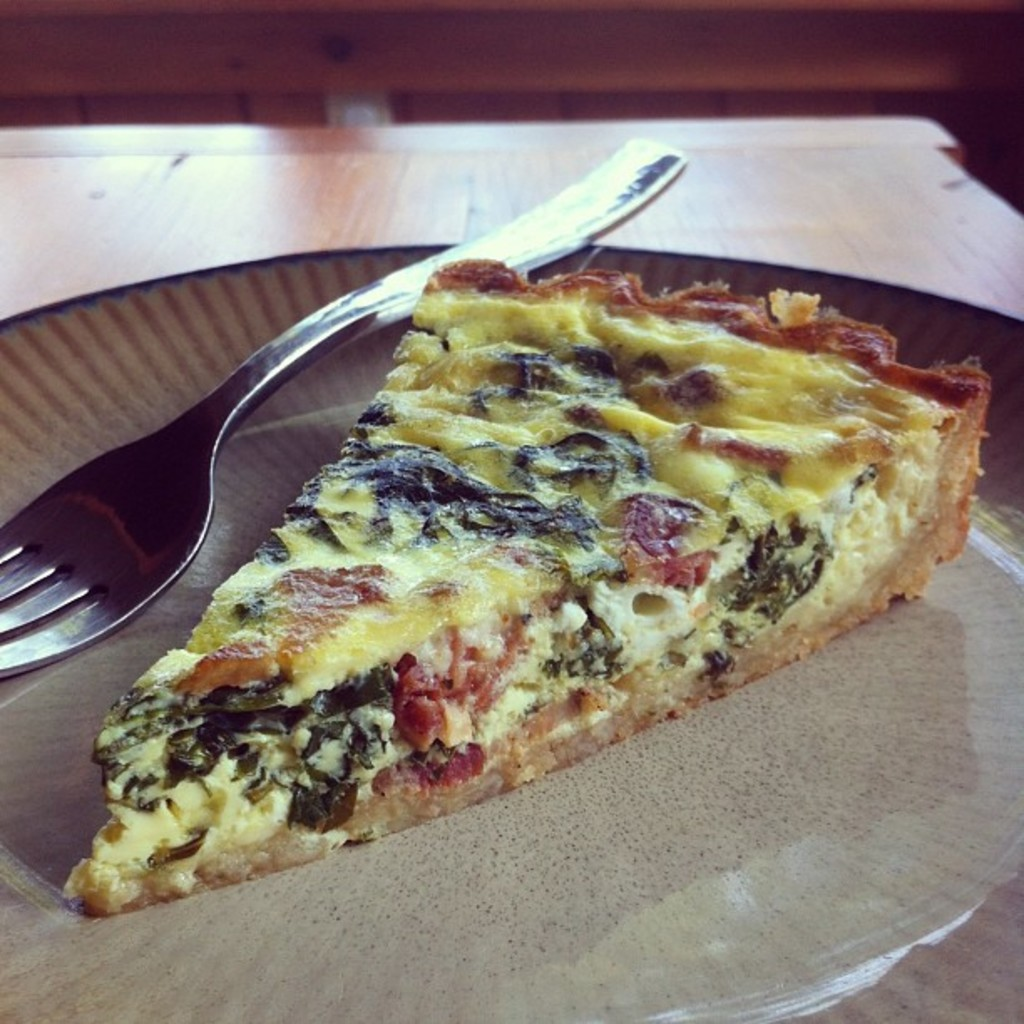Pizza: (76, 274, 995, 915)
